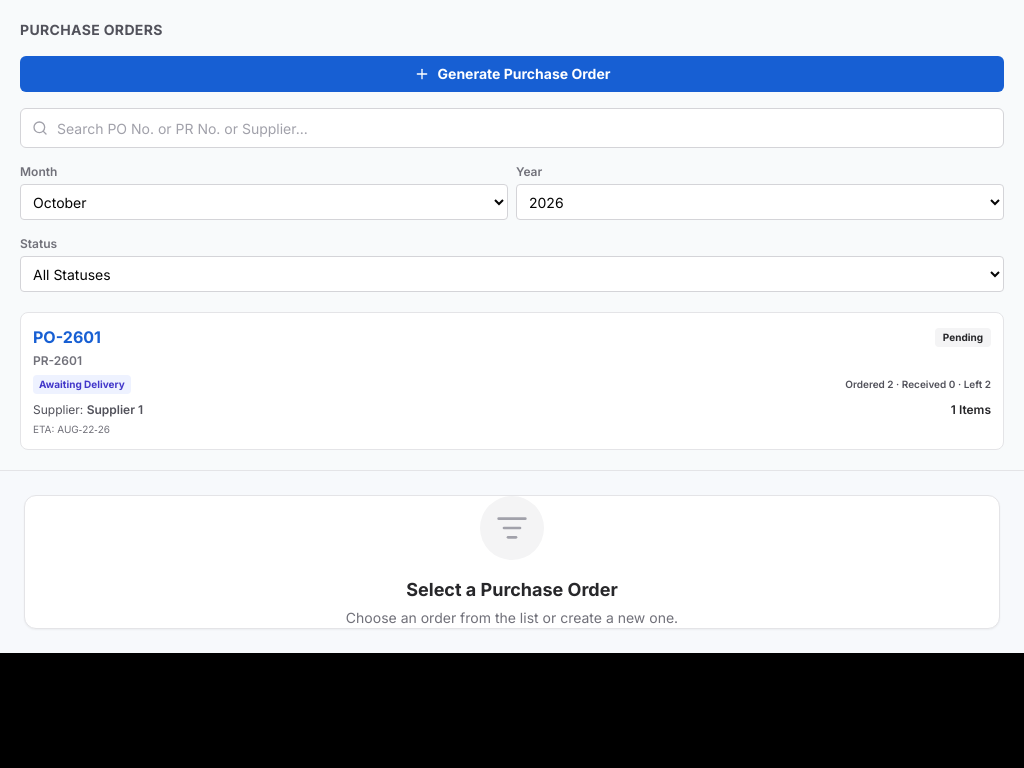
Scenario: PurchaseOrderView › renders server summary count and ETA and starts the create workflow
The image size is (1024, 768).
Expected: the text "1 Items" is shown, [951, 402, 991, 418]
Expected: the text "ETA: AUG‑22‑26" is shown, [33, 423, 110, 435]
Click the button "Generate Purchase Order" at (512, 74), box [20, 56, 1004, 92]
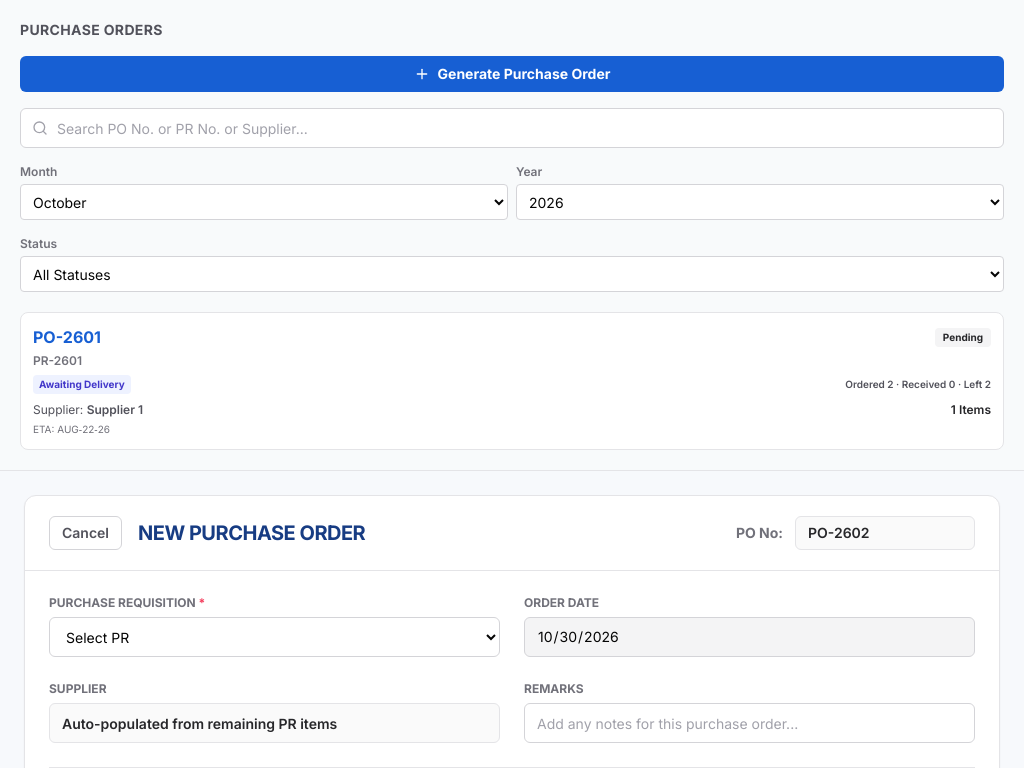
Expected: the heading "New Purchase Order" is shown, [138, 519, 365, 547]
